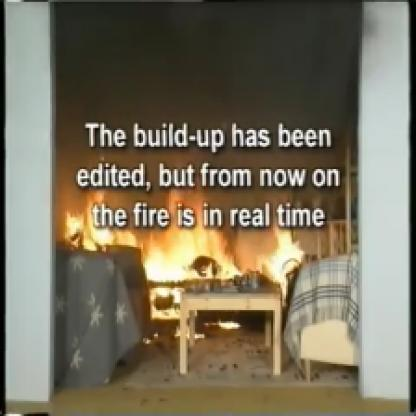fire: (58, 192, 240, 270), (249, 218, 319, 295), (148, 279, 186, 328), (208, 315, 244, 338)
